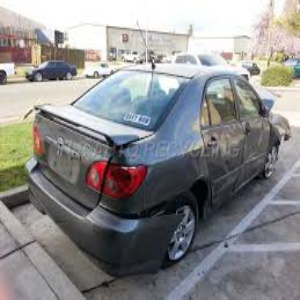bumper: (88, 205, 184, 278)
